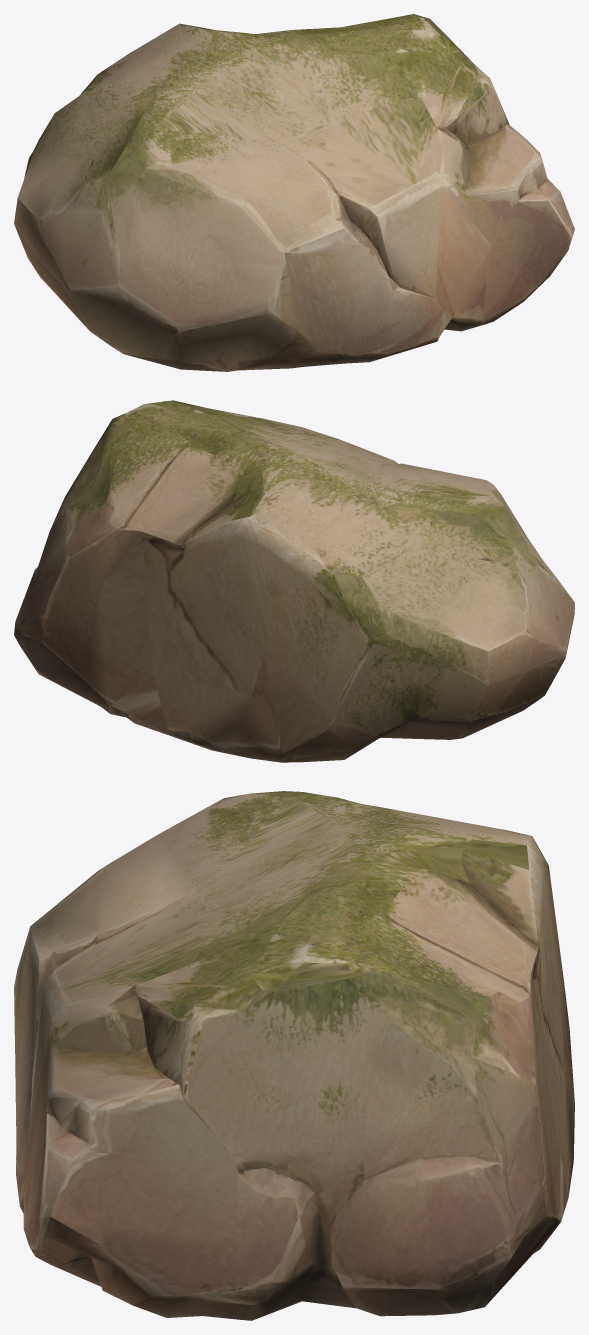
Rendered from Env_Rock_Boulder.fbx.
3 renders of one model, top to bottom at view 1: azimuth 30°, elevation 25°; view 2: azimuth 150°, elevation 25°; view 3: azimuth 270°, elevation 25°, orthographic. The views are drawn at different scales.
Visible parts, largest first — view 1: Env_Rock_Boulder; view 2: Env_Rock_Boulder; view 3: Env_Rock_Boulder.
Boxes of the visible parts, left/top/right/bottom form: Env_Rock_Boulder: left=14, top=14, right=574, bottom=371; Env_Rock_Boulder: left=14, top=400, right=574, bottom=762; Env_Rock_Boulder: left=14, top=791, right=574, bottom=1320.
Bounding box in the file's own units: 0.7122 × 0.3489 × 0.5248.
Materials: 1 (1 with a texture image).
